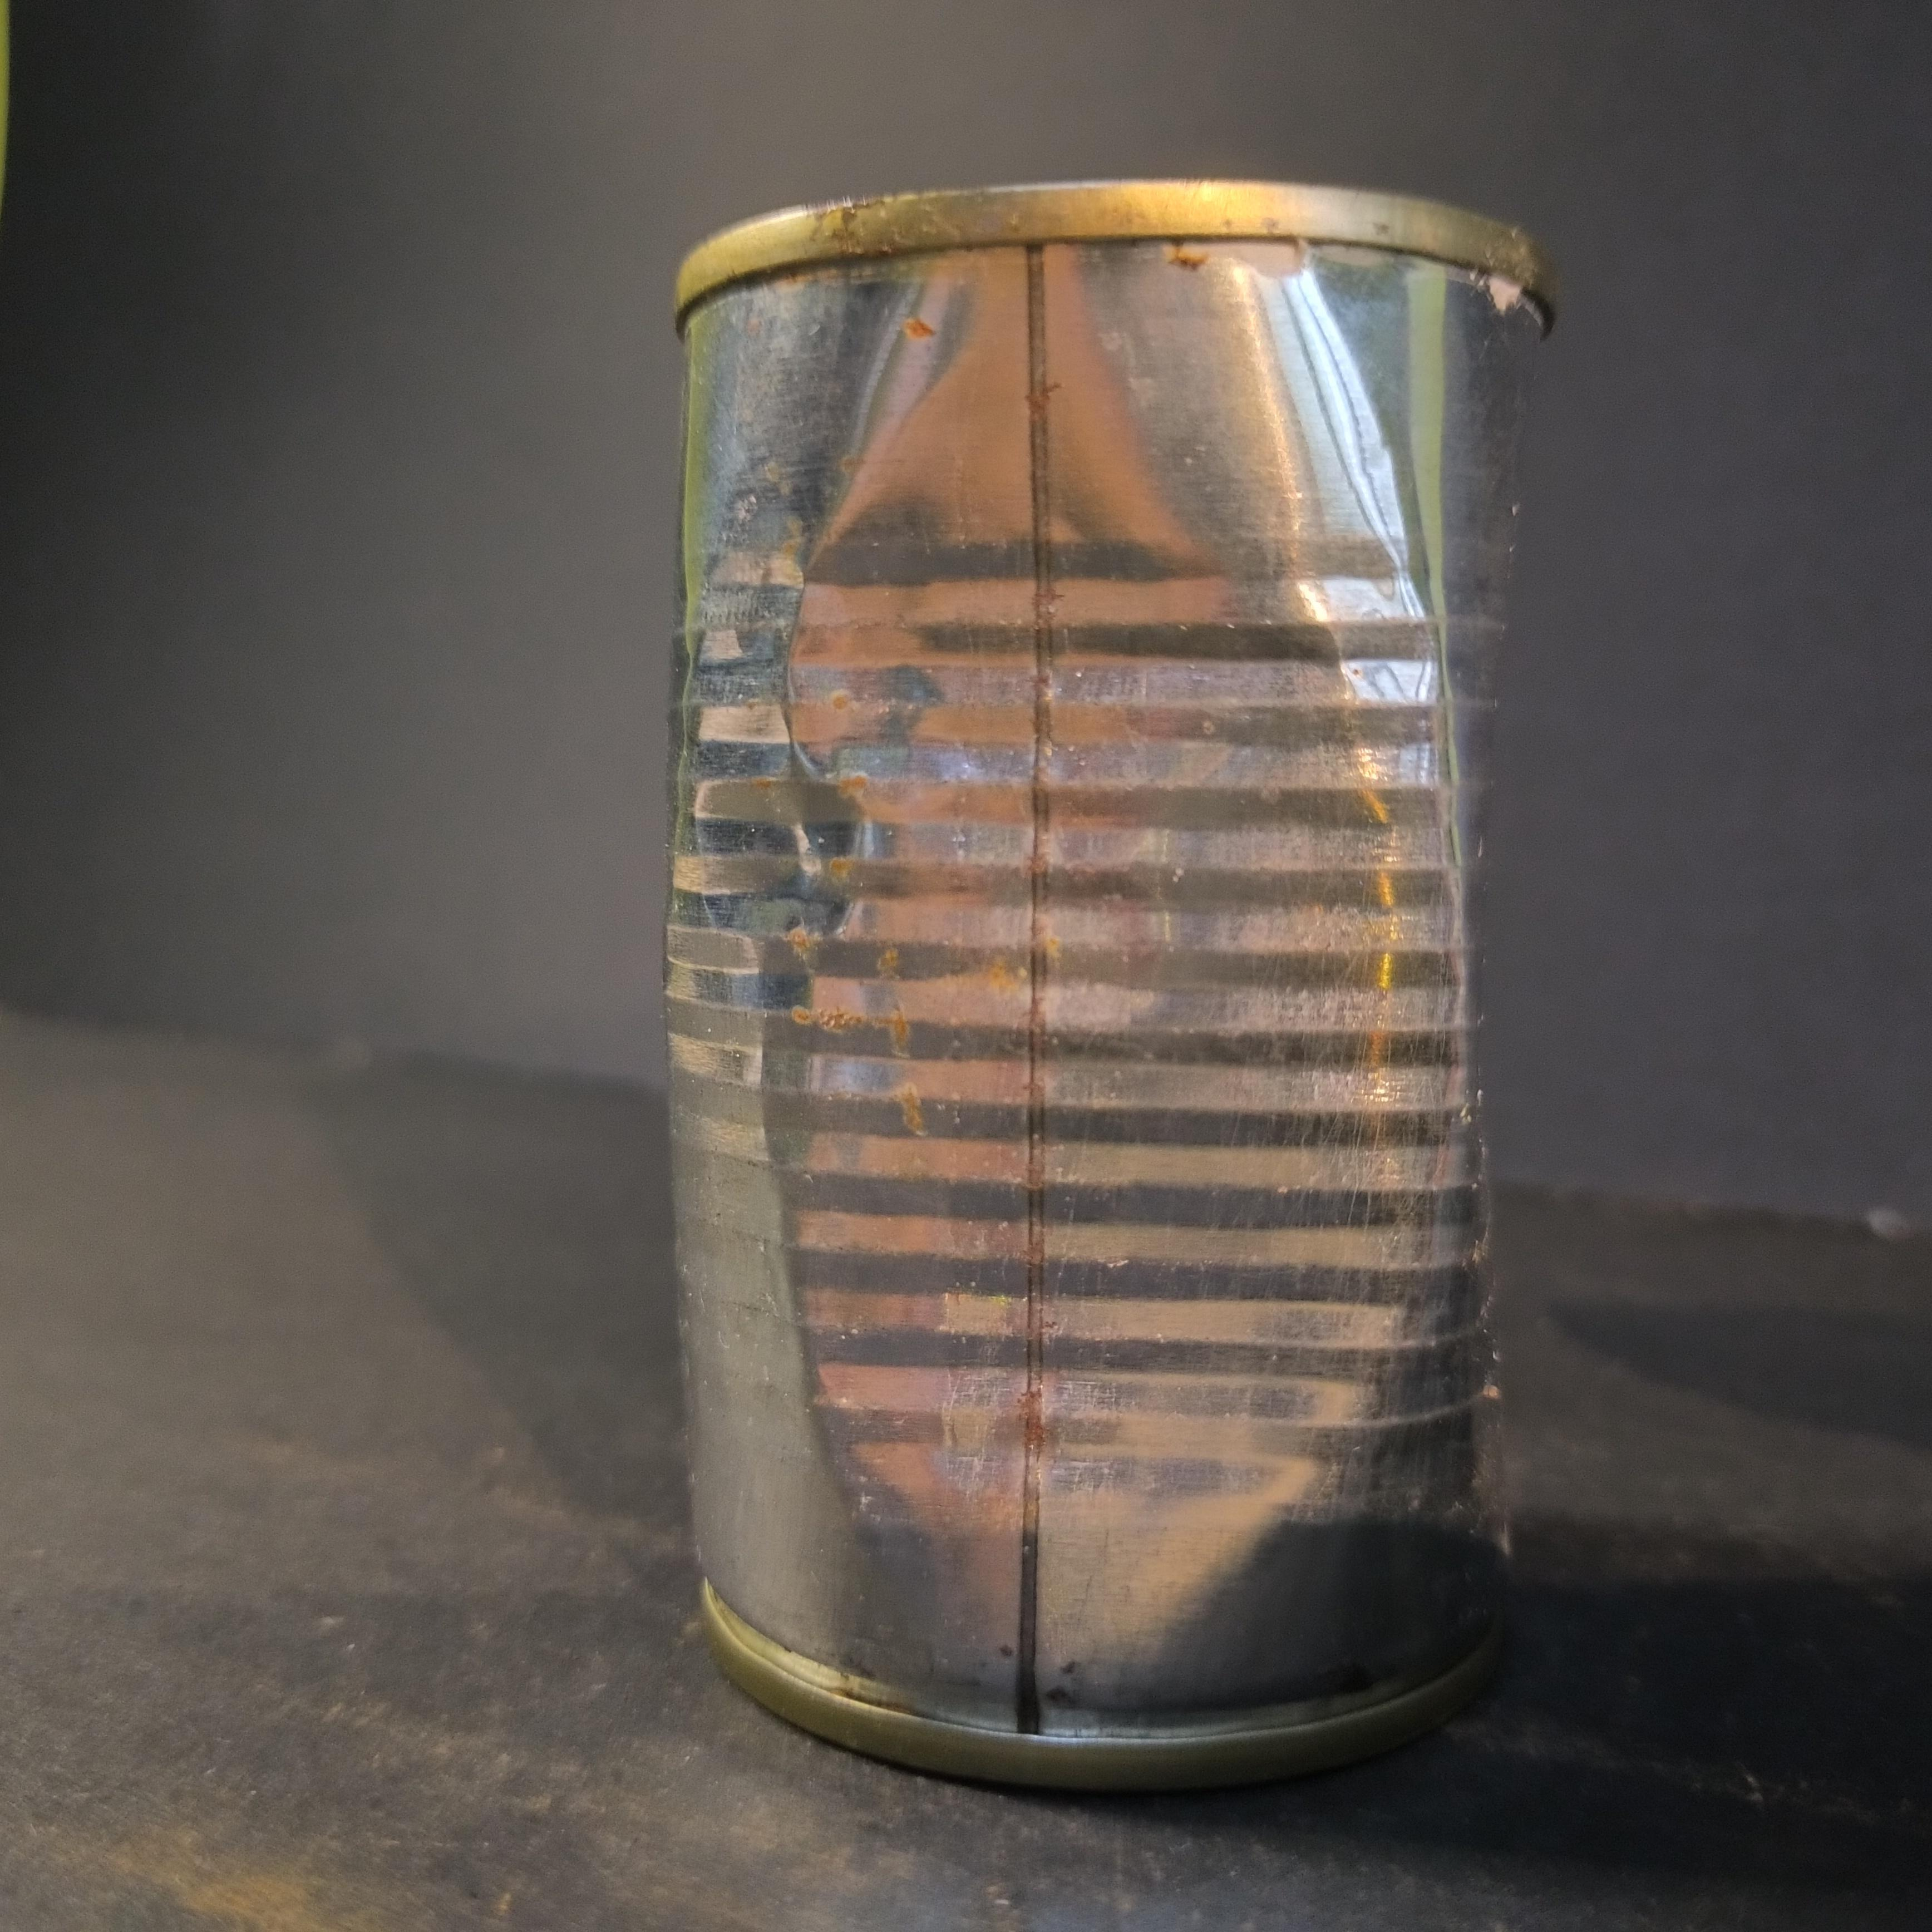Dented: (617, 142, 1585, 1794)
